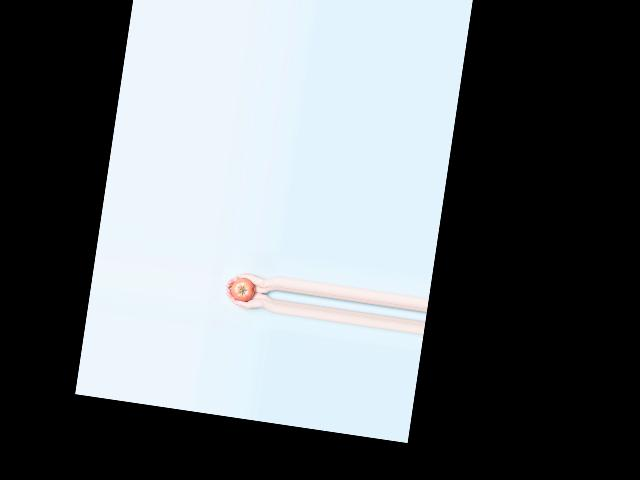tomato: (229, 277, 256, 303)
